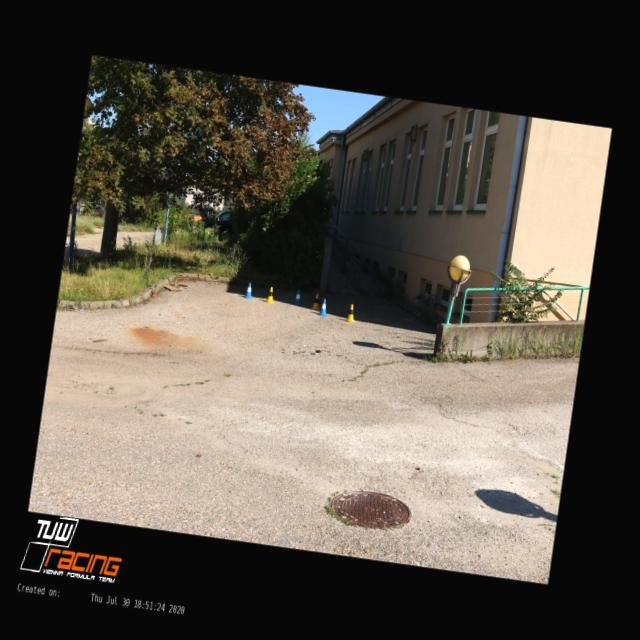blue_cone: (317, 298, 330, 317), (292, 289, 304, 306), (243, 282, 254, 299)
yellow_cone: (344, 304, 358, 322), (264, 286, 276, 304), (310, 294, 322, 310)
